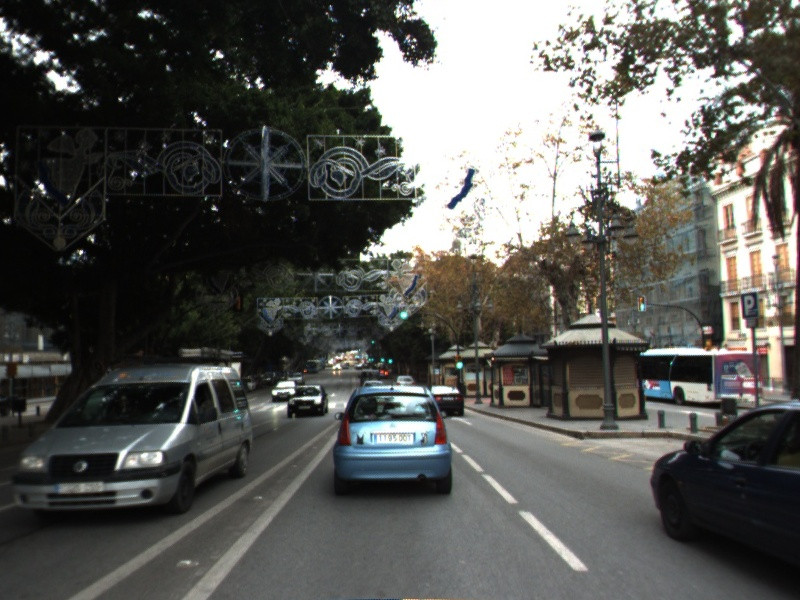STRAIGHT: (448, 414, 474, 427)
